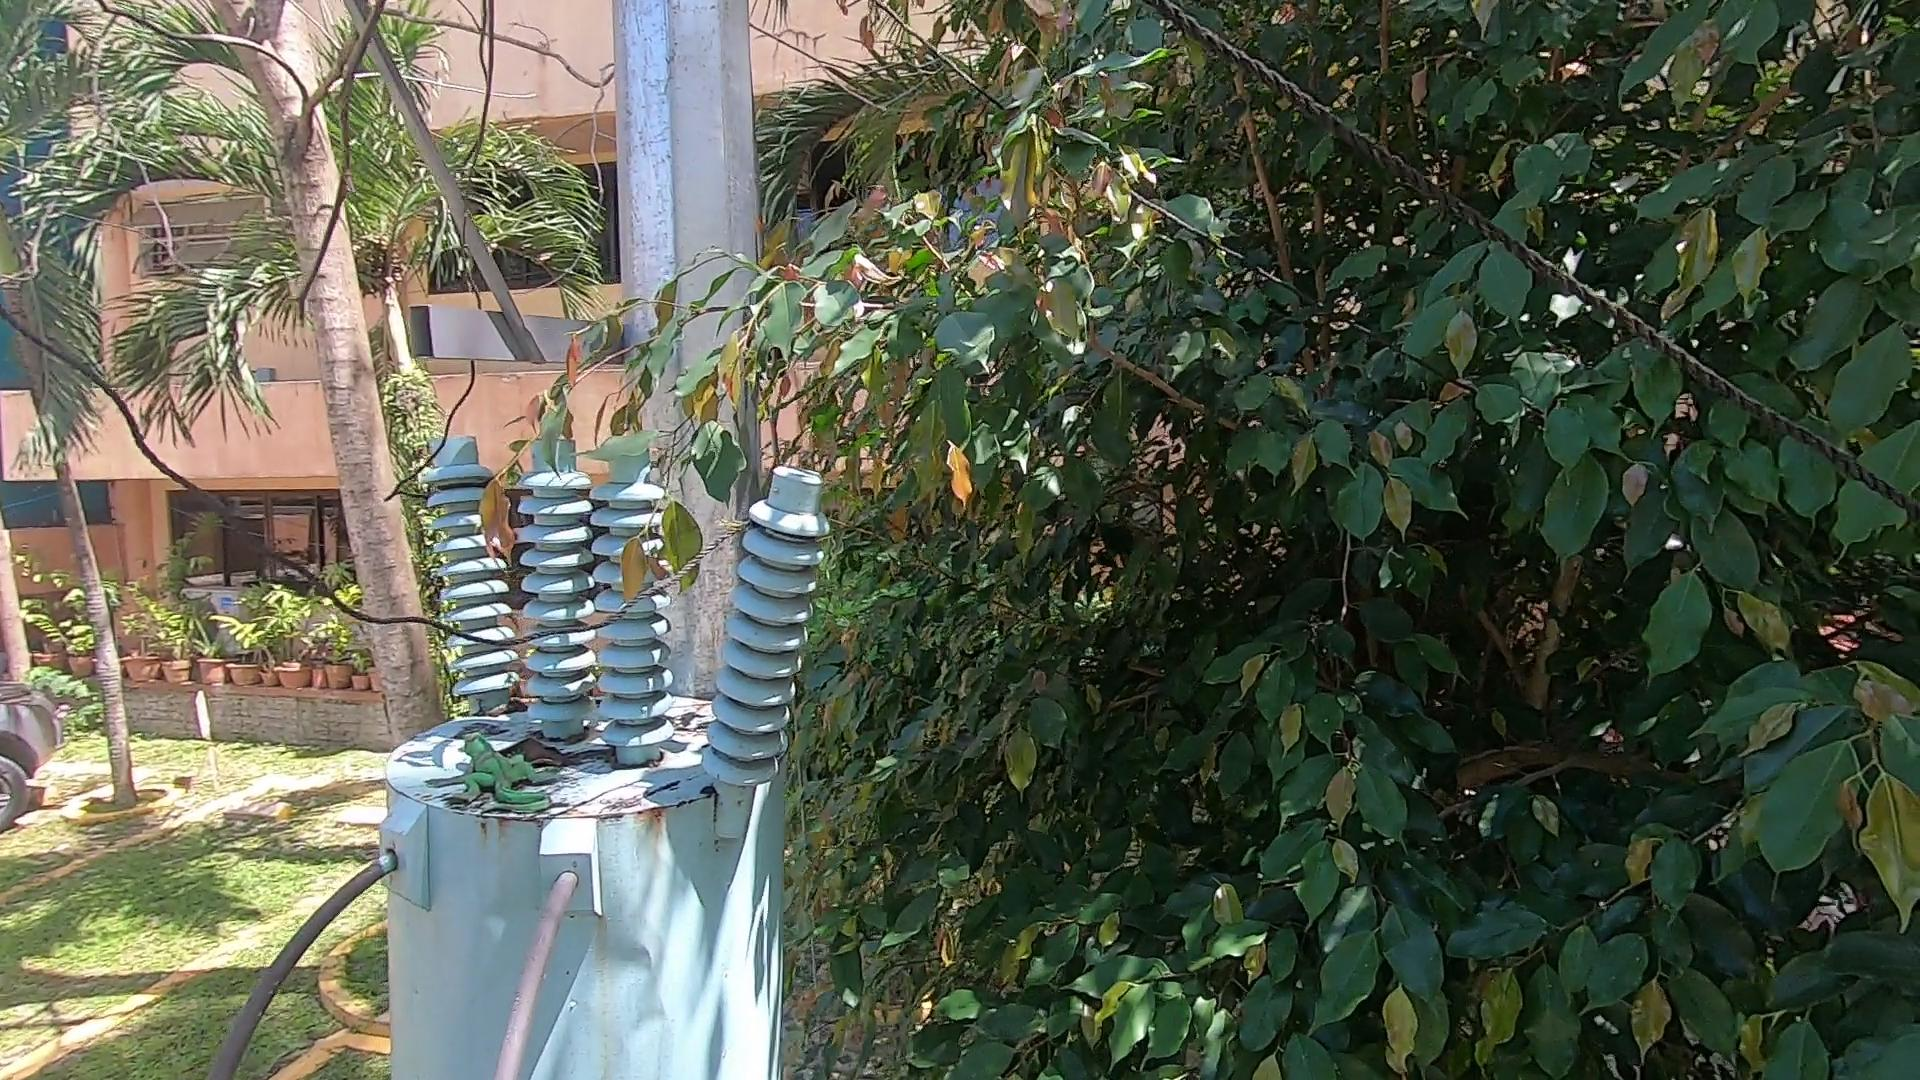branch with leaves: (487, 265, 767, 663)
leaf: (489, 732, 601, 785), (665, 695, 724, 741), (472, 695, 533, 727)
